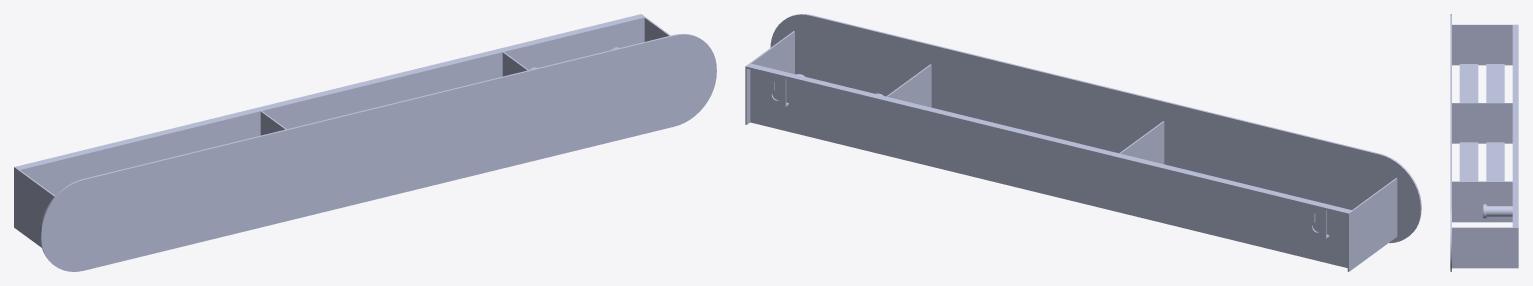
File: round-patron.8bac352961.glb
3 renders of one model, left to right at view 1: azimuth 30°, elevation 25°; view 2: azimuth 150°, elevation 25°; view 3: azimuth 270°, elevation 25°, orthographic. The views are drawn at different scales.
Visible parts, largest first — view 1: NAUO1; view 2: NAUO1; view 3: NAUO1.
Boxes of the visible parts, x1,y1,x2,y2 form: NAUO1: [14, 14, 716, 271]; NAUO1: [745, 14, 1421, 271]; NAUO1: [1450, 14, 1518, 271].
Size of the model in its own units: 0.7 by 0.09 by 0.092.
